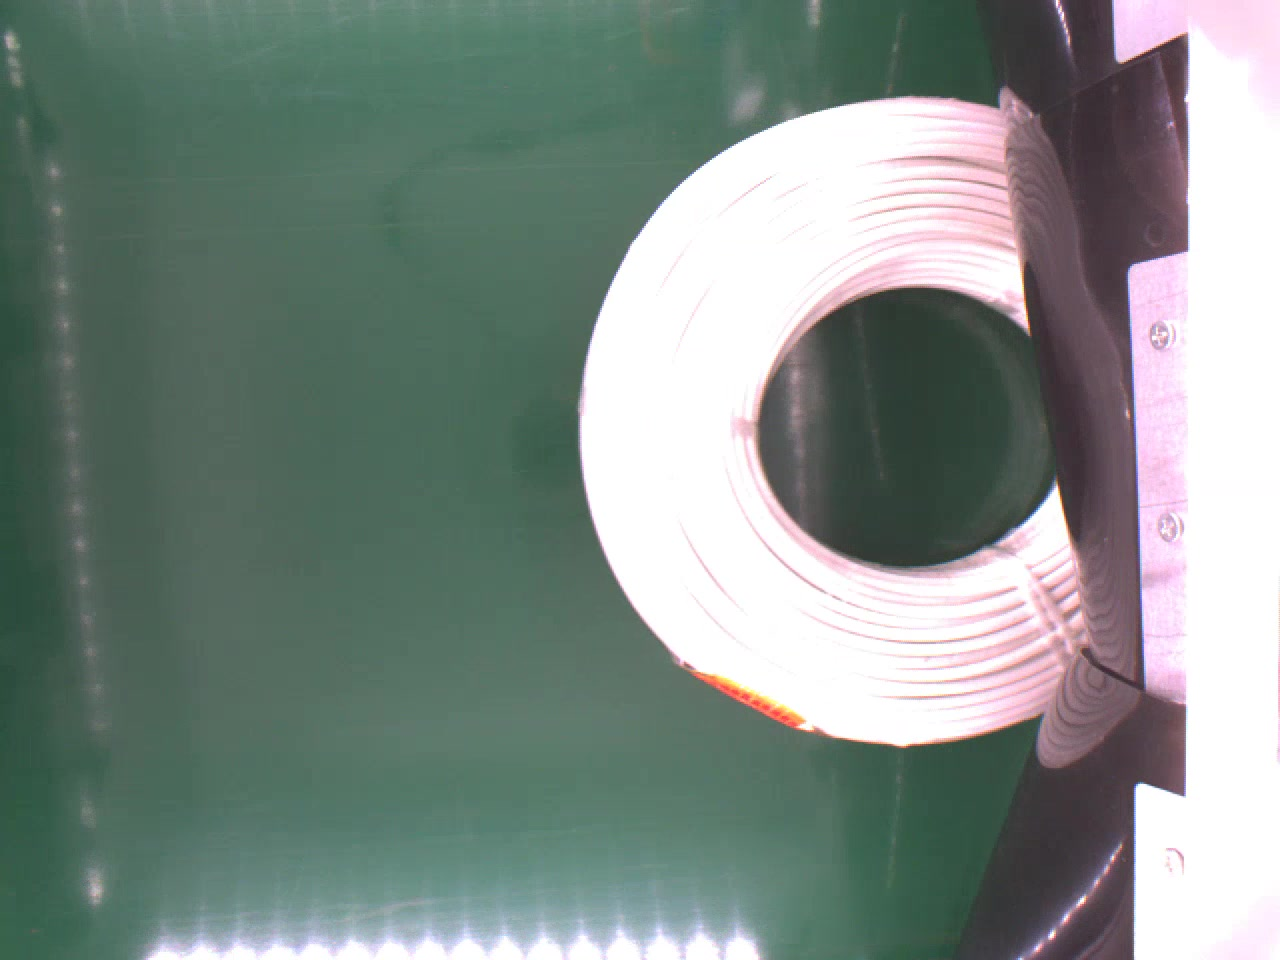white: (571, 91, 1089, 746)
